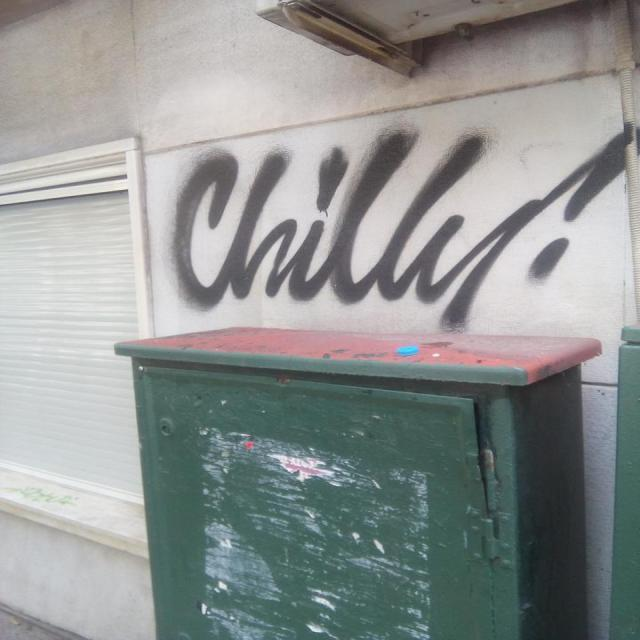nonspitting: (172, 121, 635, 329)
